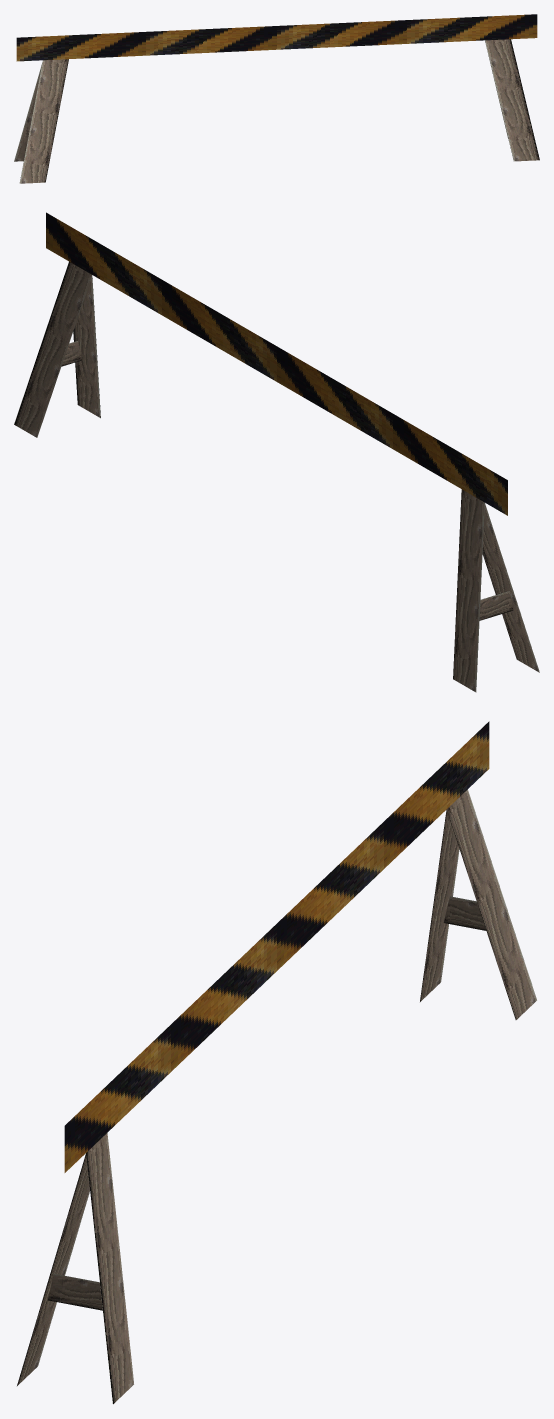
The model's file is primary_033.glb.
3 renders of one model, top to bottom at view 1: azimuth 30°, elevation 25°; view 2: azimuth 150°, elevation 25°; view 3: azimuth 270°, elevation 25°, orthographic. The views are drawn at different scales.
Visible parts, largest first — view 1: Object; view 2: Object; view 3: Object.
Part boxes in pixels (box(x1,y1,x2,y2)): Object: box(14, 14, 539, 183); Object: box(14, 212, 539, 692); Object: box(17, 721, 536, 1404).
Bounding box in the file's own units: 4.23 × 1.26 × 2.2.
Materials: 7 (7 with a texture image).
